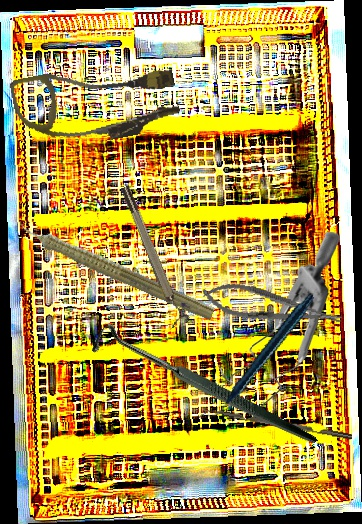Cannula: (9, 50, 183, 157)
Chopper: (198, 404, 353, 448)
Fixation Ring: (117, 182, 192, 329)
Handpiece: (7, 210, 219, 325), (182, 292, 338, 420)
Hook Surgical: (85, 264, 318, 517)
Needle Holder: (198, 276, 346, 338)
Speculum: (214, 231, 346, 414)
